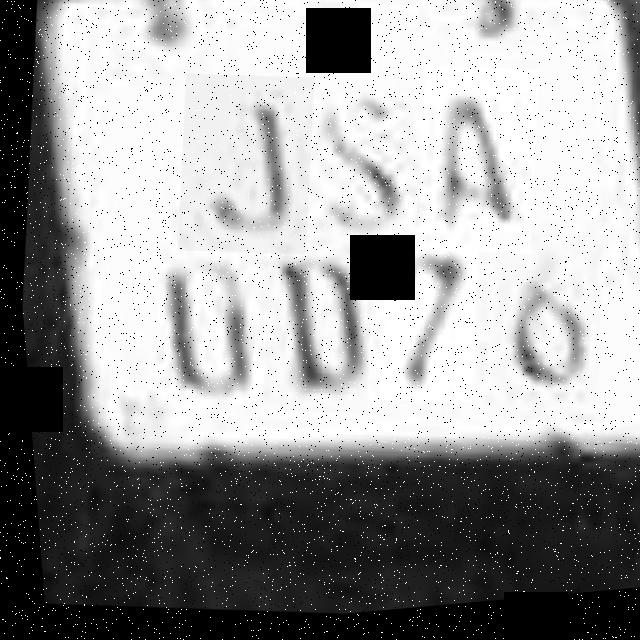6: (469, 233, 609, 439)
7: (362, 241, 483, 419)
J: (163, 68, 322, 268)
N: (402, 65, 547, 271)
U: (244, 215, 383, 426)
